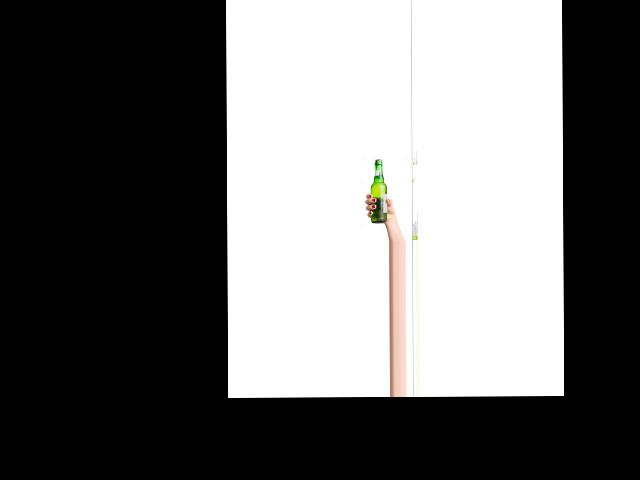beer: (371, 158, 388, 223)
